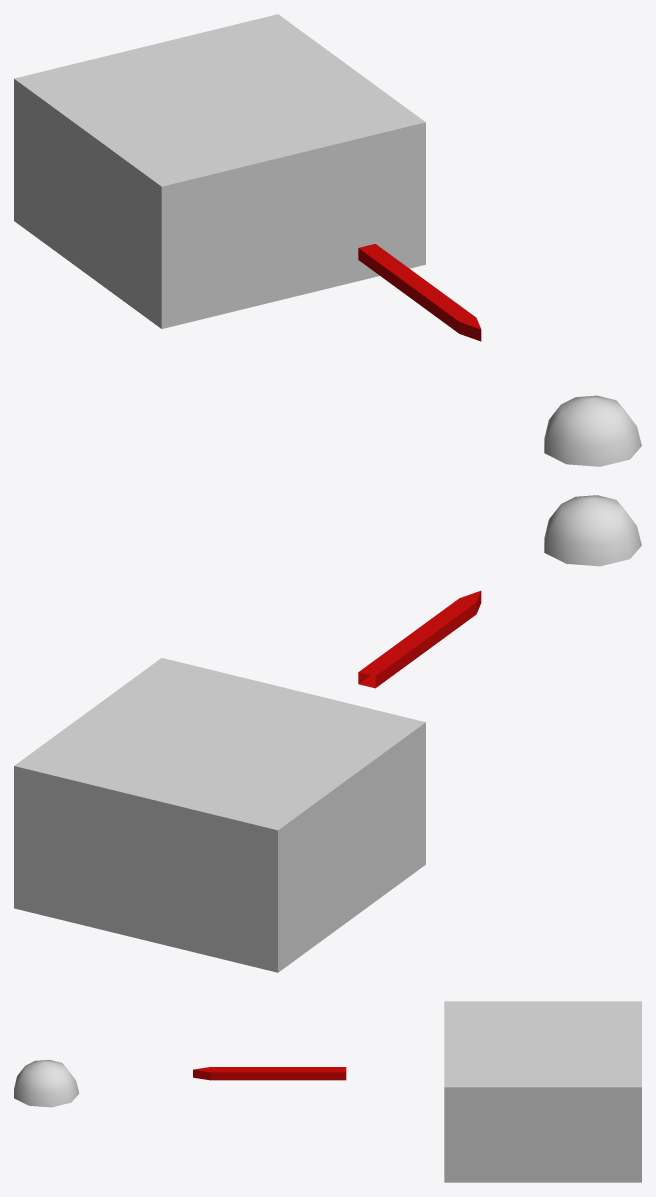
File: geigermuller.FBX
3 renders of one model, top to bottom at view 1: azimuth 30°, elevation 25°; view 2: azimuth 150°, elevation 25°; view 3: azimuth 270°, elevation 25°, orthographic. The views are drawn at different scales.
Parts seen in each view (by area): view 1: geigermullerButton, Sphere001, geigercounterPointer; view 2: geigermullerButton, Sphere001, geigercounterPointer; view 3: geigermullerButton, Sphere001, geigercounterPointer.
Boxes of the visible parts, x1,y1,x2,y2 form: geigermullerButton: (14,14,425,328); Sphere001: (544,395,641,466); geigercounterPointer: (358,244,481,341); geigermullerButton: (14,658,425,972); Sphere001: (544,495,641,566); geigercounterPointer: (358,590,481,688); geigermullerButton: (444,1001,641,1182); Sphere001: (14,1059,79,1107); geigercounterPointer: (193,1067,346,1080).
Size of the model in its own units: 1.16 by 0.5986 by 3.57.
1 material, 1 textured.
